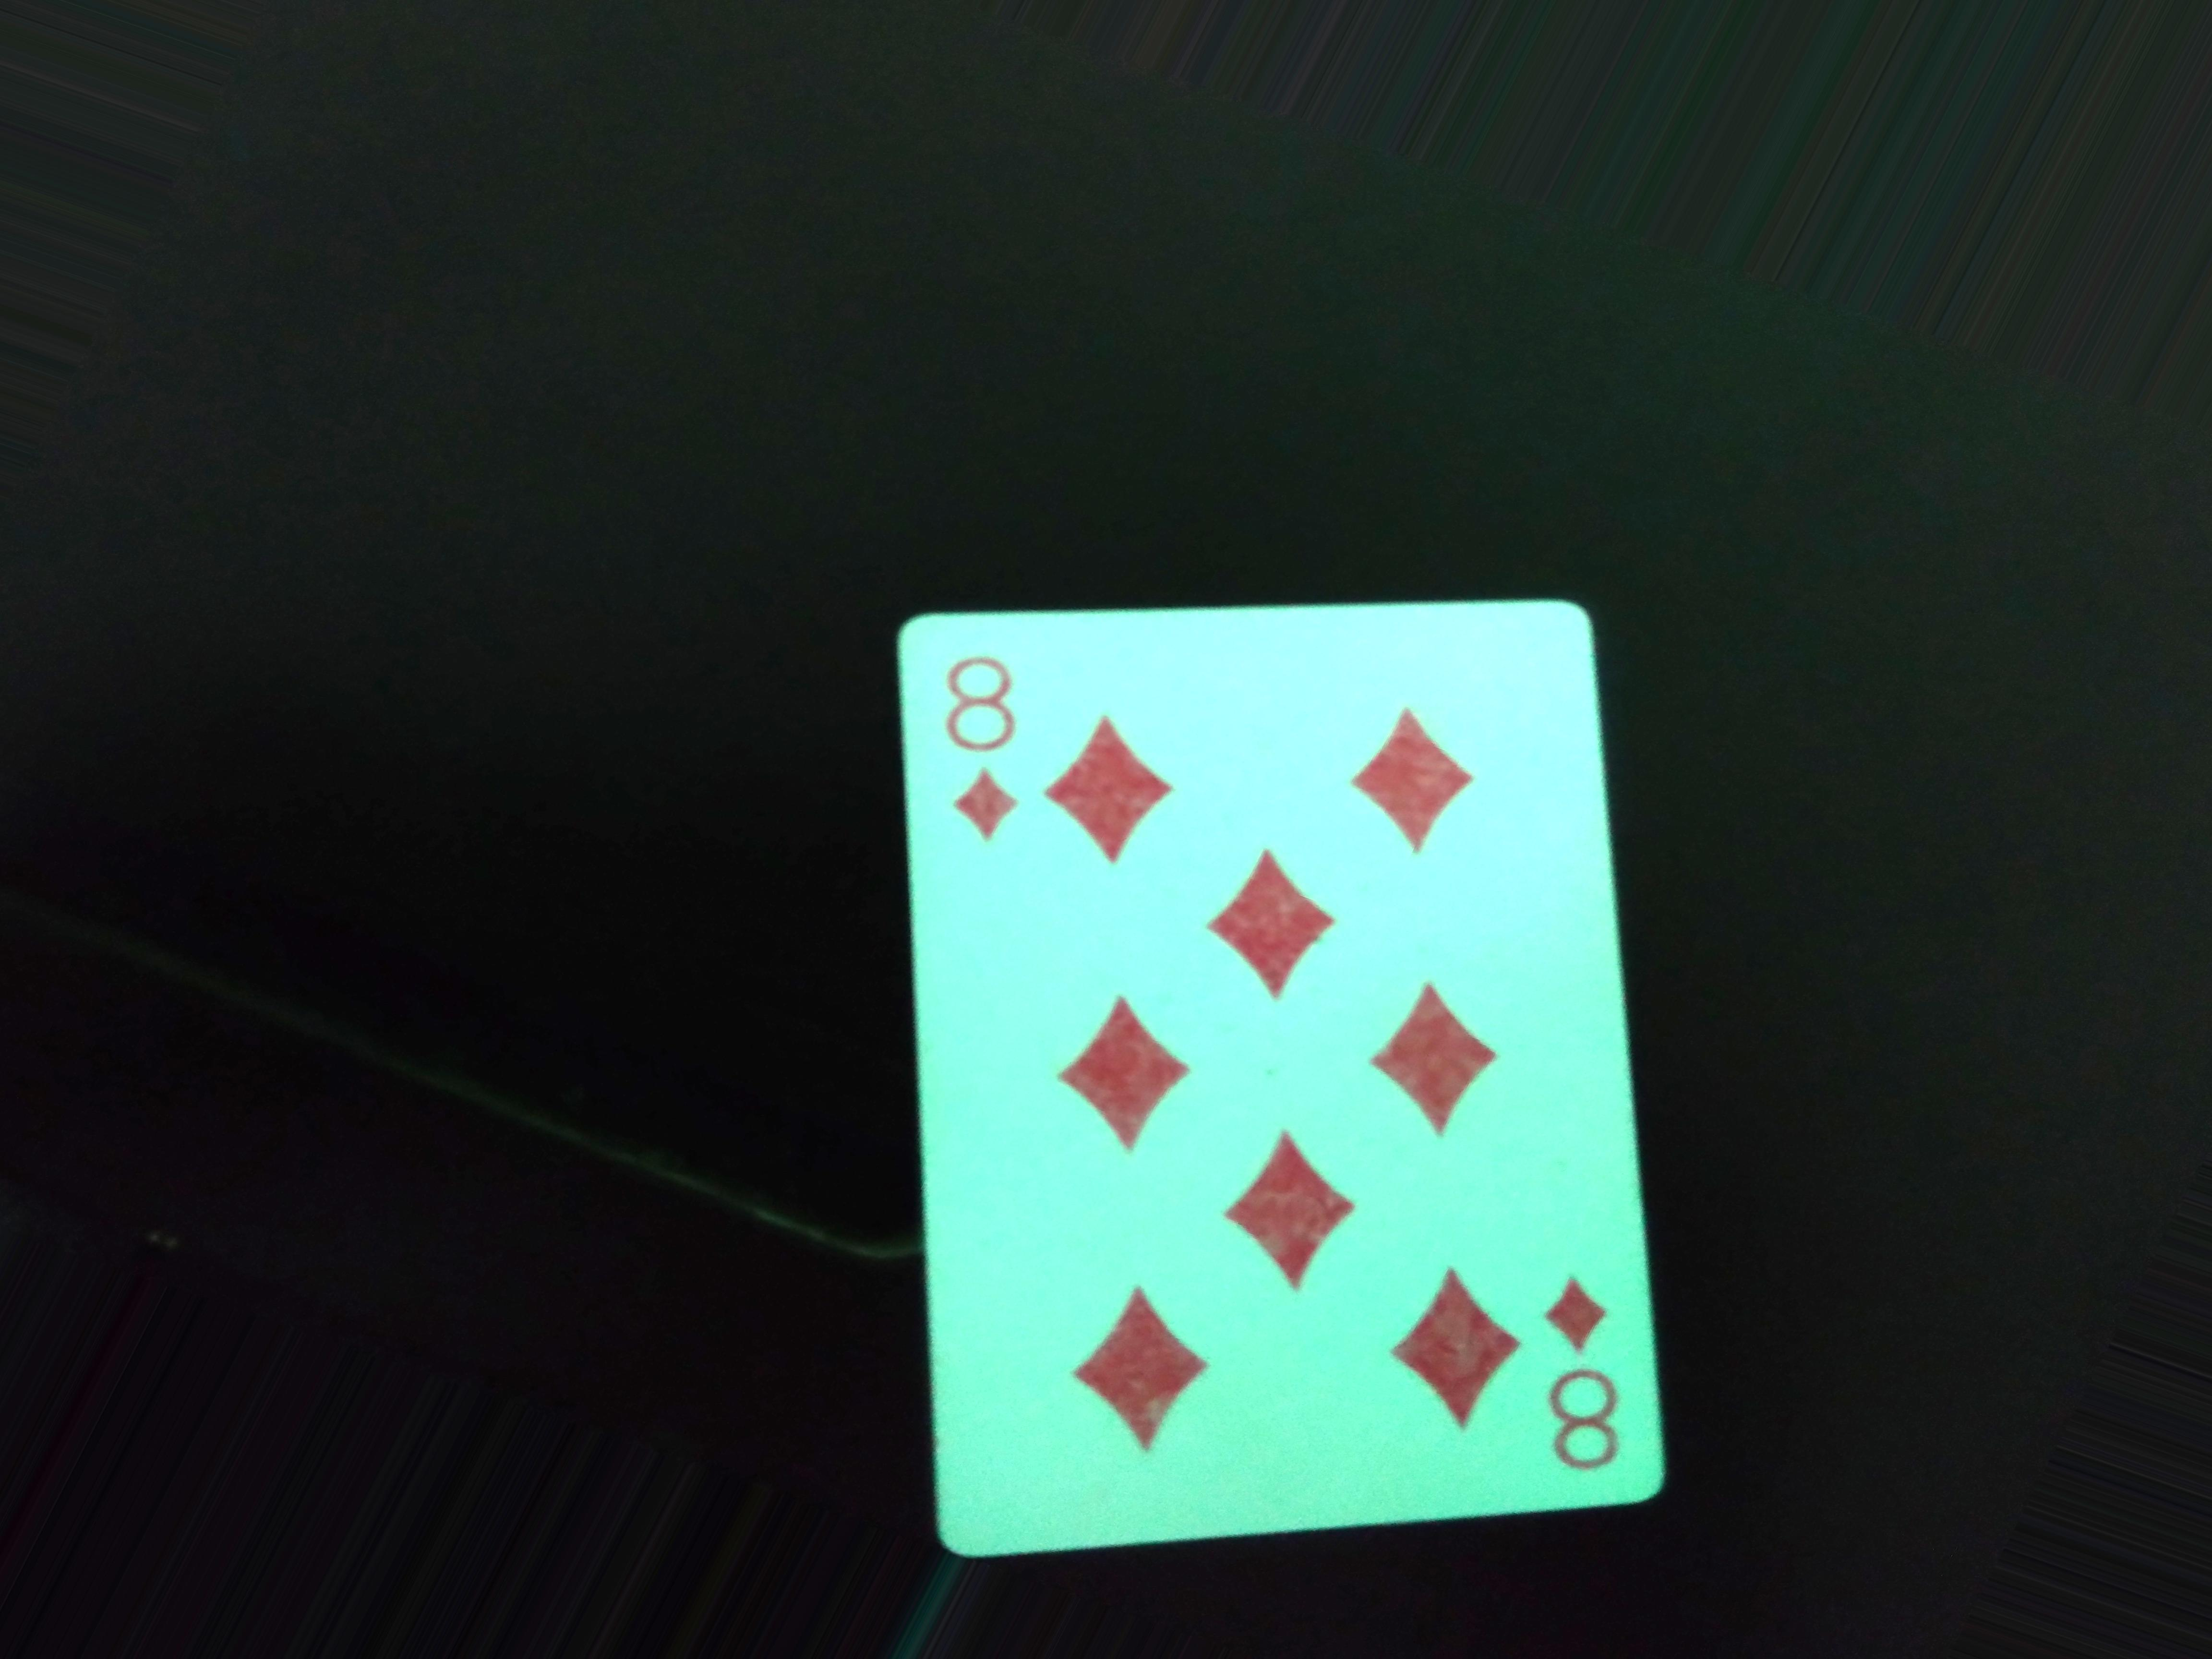8D: (925, 613, 1057, 889)
